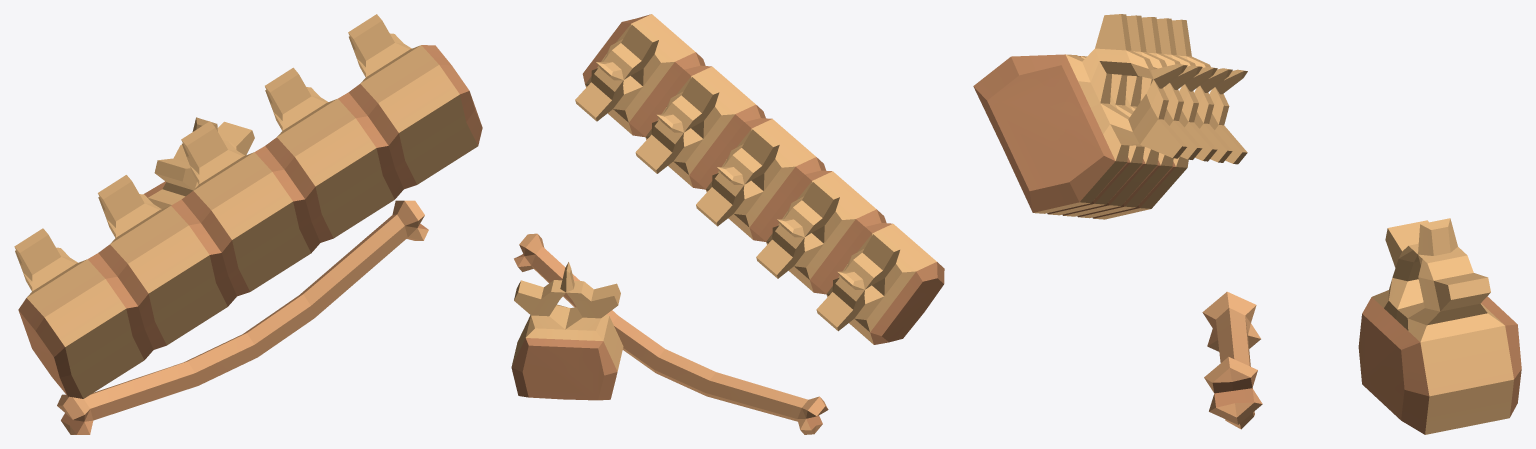
The model's file is UniquePotatoes.008.fbx.
3 renders of one model, left to right at view 1: azimuth 30°, elevation 25°; view 2: azimuth 150°, elevation 25°; view 3: azimuth 270°, elevation 25°, orthographic. The views are drawn at different scales.
Parts seen in each view (by area): view 1: UniquePotatoes.008; view 2: UniquePotatoes.008; view 3: UniquePotatoes.008.
Boxes of the visible parts, x1=… form: UniquePotatoes.008: x1=14, y1=14, x2=482, y2=434; UniquePotatoes.008: x1=511, y1=14, x2=944, y2=434; UniquePotatoes.008: x1=973, y1=14, x2=1521, y2=434.
Bounding box in the file's own units: 62.07 × 52.58 × 52.09.
